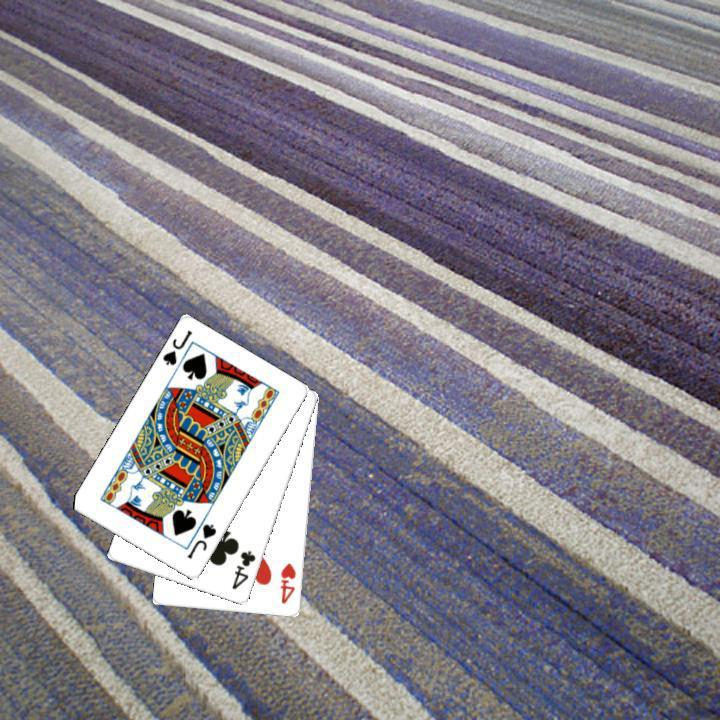4: (228, 547, 258, 592), (276, 559, 298, 606)
J: (158, 326, 194, 368), (183, 520, 219, 561)
